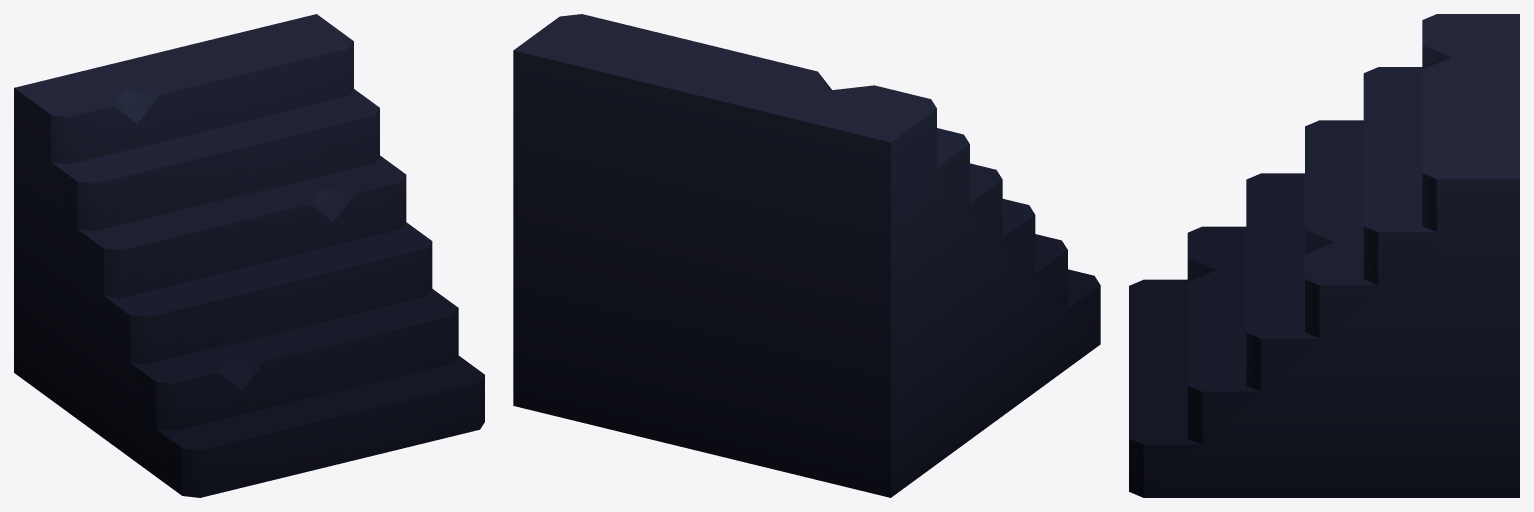
Rendered from stairs.fbx.
3 views of the same model, side by side, from view 1: azimuth 30°, elevation 25°; view 2: azimuth 150°, elevation 25°; view 3: azimuth 270°, elevation 25° (orthographic). The views are drawn at different scales.
Parts seen in each view (by area): view 1: stairs; view 2: stairs; view 3: stairs.
Boxes of the visible parts, left/top/right/bottom form: stairs: left=14, top=14, right=484, bottom=497; stairs: left=513, top=14, right=1100, bottom=497; stairs: left=1129, top=14, right=1519, bottom=497.
Bounding box in the file's own units: 10 × 9 × 10.
